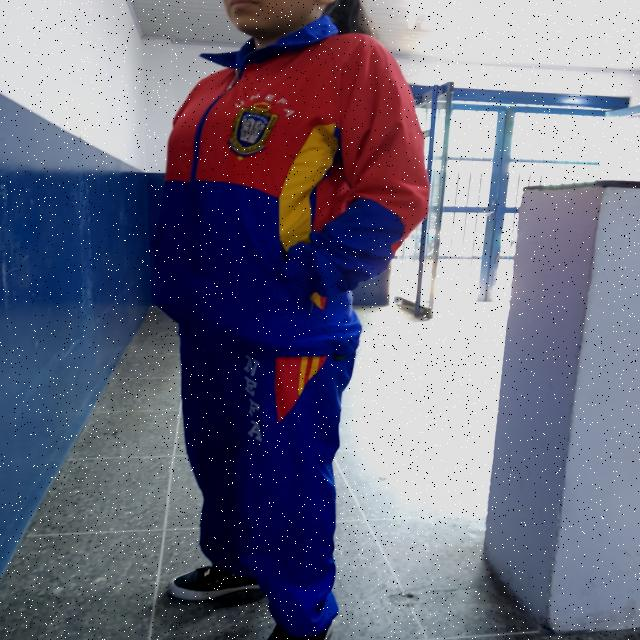chaqueta_unefa: (155, 15, 429, 356)
uniforme_superior: (180, 336, 356, 640)
